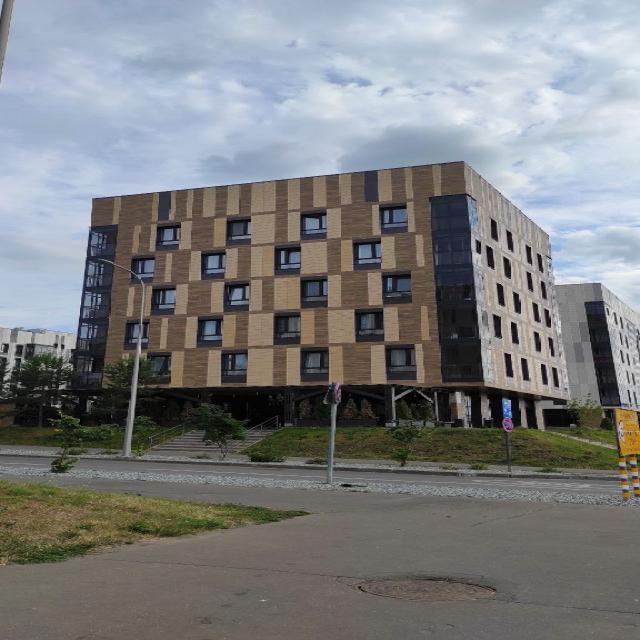Building: (76, 162, 567, 428)
